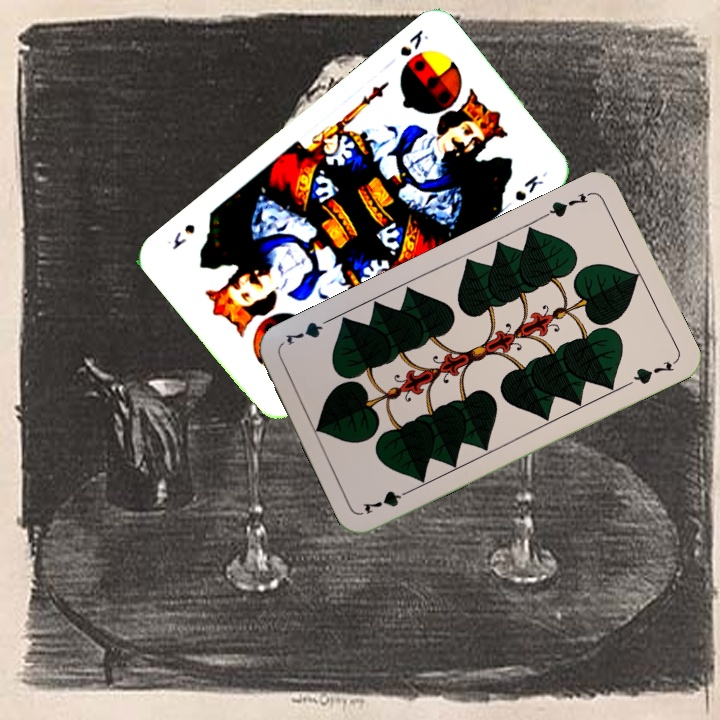G7: (359, 484, 416, 517), (540, 187, 595, 220)
SK: (395, 25, 431, 59)
